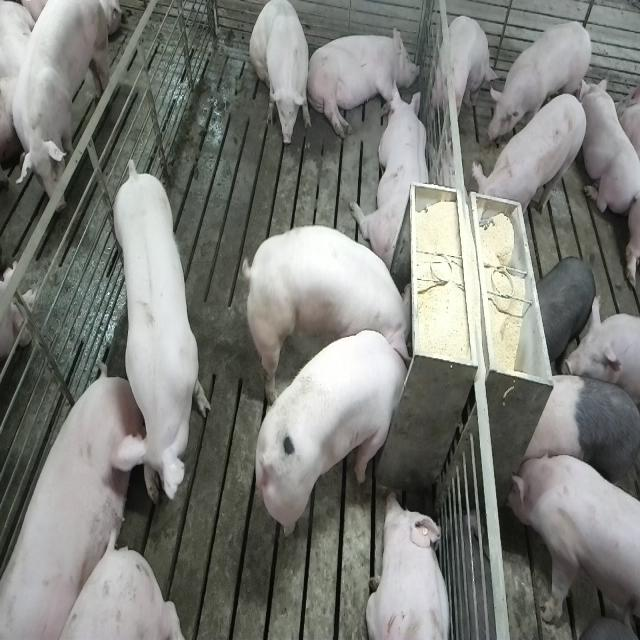Feeding: (258, 328, 418, 540), (246, 221, 420, 366)
Lateral_lying: (307, 23, 419, 141)
Sitting: (250, 0, 311, 148)
Standing: (108, 153, 211, 510), (2, 0, 115, 223), (506, 450, 638, 640), (514, 370, 638, 515), (473, 90, 589, 227), (487, 22, 593, 150), (436, 13, 497, 132), (534, 255, 597, 365)
Sternal_lying: (353, 82, 432, 272), (367, 490, 454, 640), (580, 69, 639, 216)
